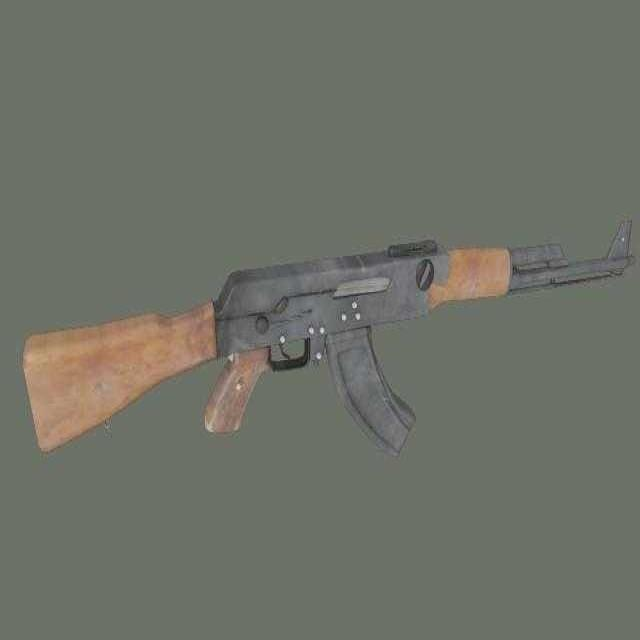heavyweapon: (13, 200, 635, 522)
